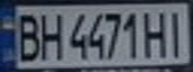1: (121, 8, 142, 59)
4: (84, 9, 109, 60), (66, 8, 90, 61)
7: (103, 9, 124, 60)
B: (9, 9, 42, 62)
H: (36, 9, 66, 61), (142, 7, 172, 58)
I: (163, 7, 190, 58)
